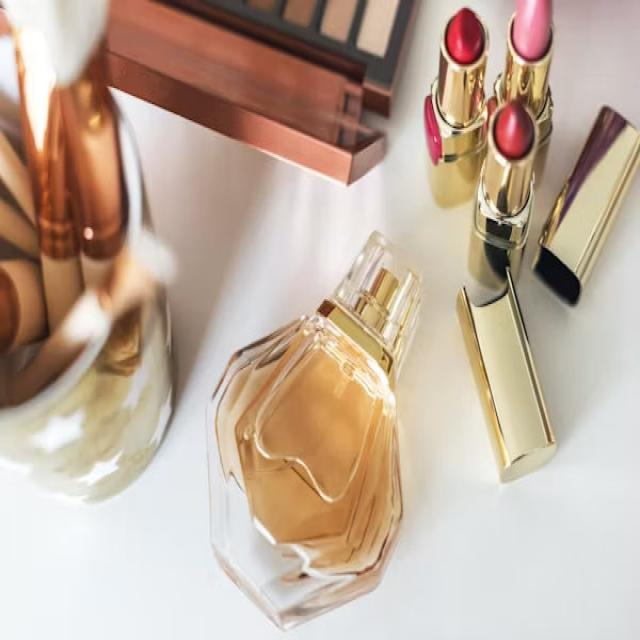Bottle: (207, 234, 420, 627), (424, 8, 488, 207)
